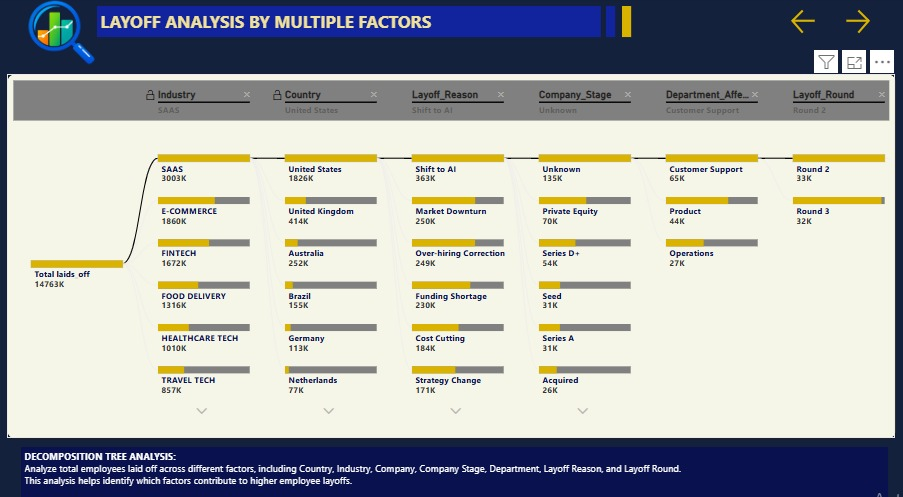

The page's visual inventory and layout, read from the dashboard file:
{"tool":"powerbi","page":{"name":"PAGE 4","canvas":[1280,720],"ordinal":3},"visuals":[{"type":"textbox","box":[136.9,11.9,714.3,44],"z":1000},{"type":"textbox","box":[859.5,11.9,13.1,44],"z":1001},{"type":"textbox","box":[881,11.9,13.1,44],"z":1002},{"type":"image","box":[9.5,0,152.4,94],"z":1003},{"type":"textbox","box":[29.8,636.9,1228.6,73.8],"z":1004},{"type":"decompositionTreeVisual","fields":{"Analyze":["tech_layoffs_dataset-1.Total laids_off"],"ExplainBy":["tech_layoffs_dataset-1.Industry","tech_layoffs_dataset-1.Country","tech_layoffs_dataset-1.Layoff_Reason","tech_layoffs_dataset-1.Company_Stage","tech_layoffs_dataset-1.Department_Affected","tech_layoffs_dataset-1.Layoff_Round","tech_layoffs_dataset-1.Company"]},"box":[9.5,107.1,1259.5,516.7],"z":1005},{"type":"actionButton","box":[1192.9,11.9,65.5,44],"z":1006},{"type":"actionButton","box":[1116.7,11.9,66.7,44],"z":1007}]}

Visuals, with their boxes in screenshot pixels (x1, y1, x2, y2), scaled from the page's 1280x720 canvas onto the 903x497 screenshot:
textbox: pyautogui.locateOnScreen(97, 8, 600, 39)
textbox: pyautogui.locateOnScreen(606, 8, 616, 39)
textbox: pyautogui.locateOnScreen(622, 8, 631, 39)
image: pyautogui.locateOnScreen(7, 0, 114, 65)
textbox: pyautogui.locateOnScreen(21, 440, 888, 491)
decompositionTreeVisual - tech_layoffs_dataset-1.Total laids_off x tech_layoffs_dataset-1.Industry: pyautogui.locateOnScreen(7, 74, 895, 431)
actionButton: pyautogui.locateOnScreen(842, 8, 888, 39)
actionButton: pyautogui.locateOnScreen(788, 8, 835, 39)
